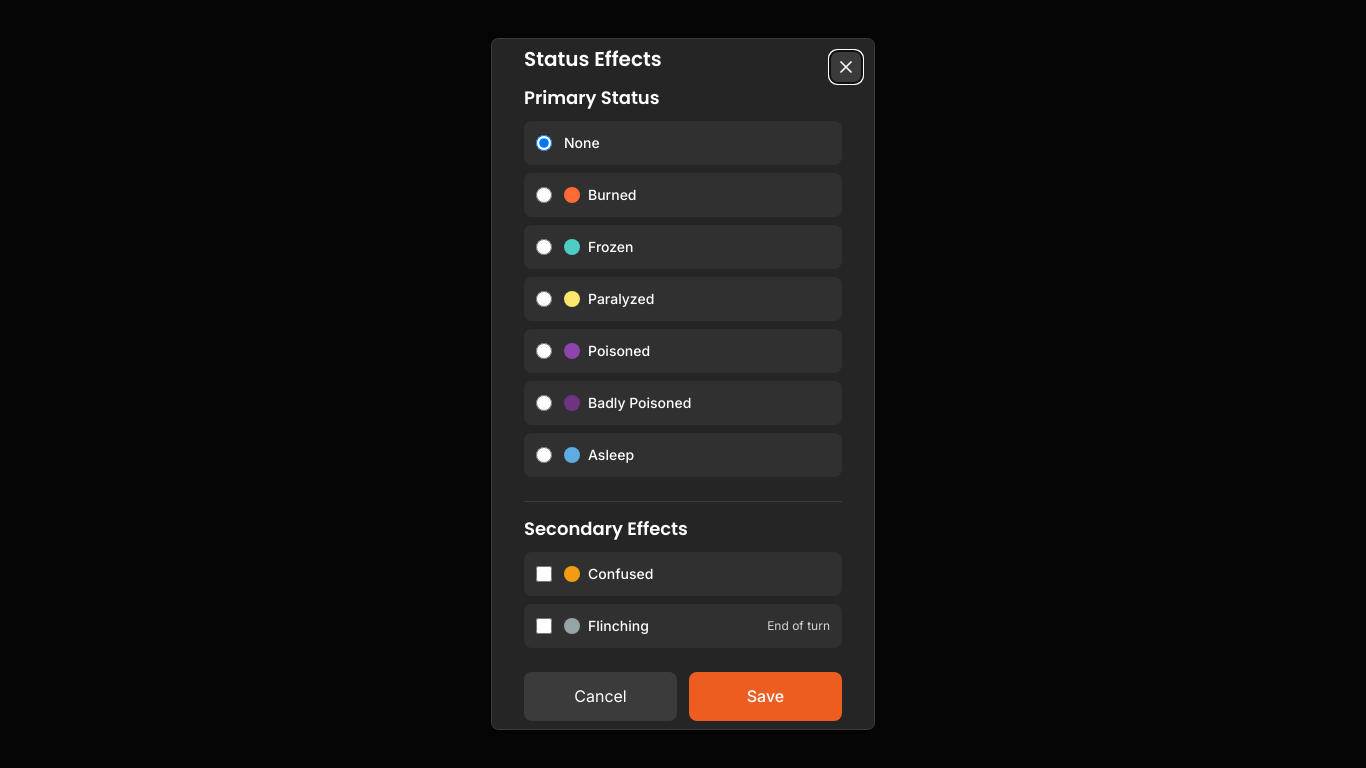
Test: StatusSelector › Duration Handling › shows duration input for asleep status
Click the radio button showing "asleep" at (544, 455), box [536,447,552,463]
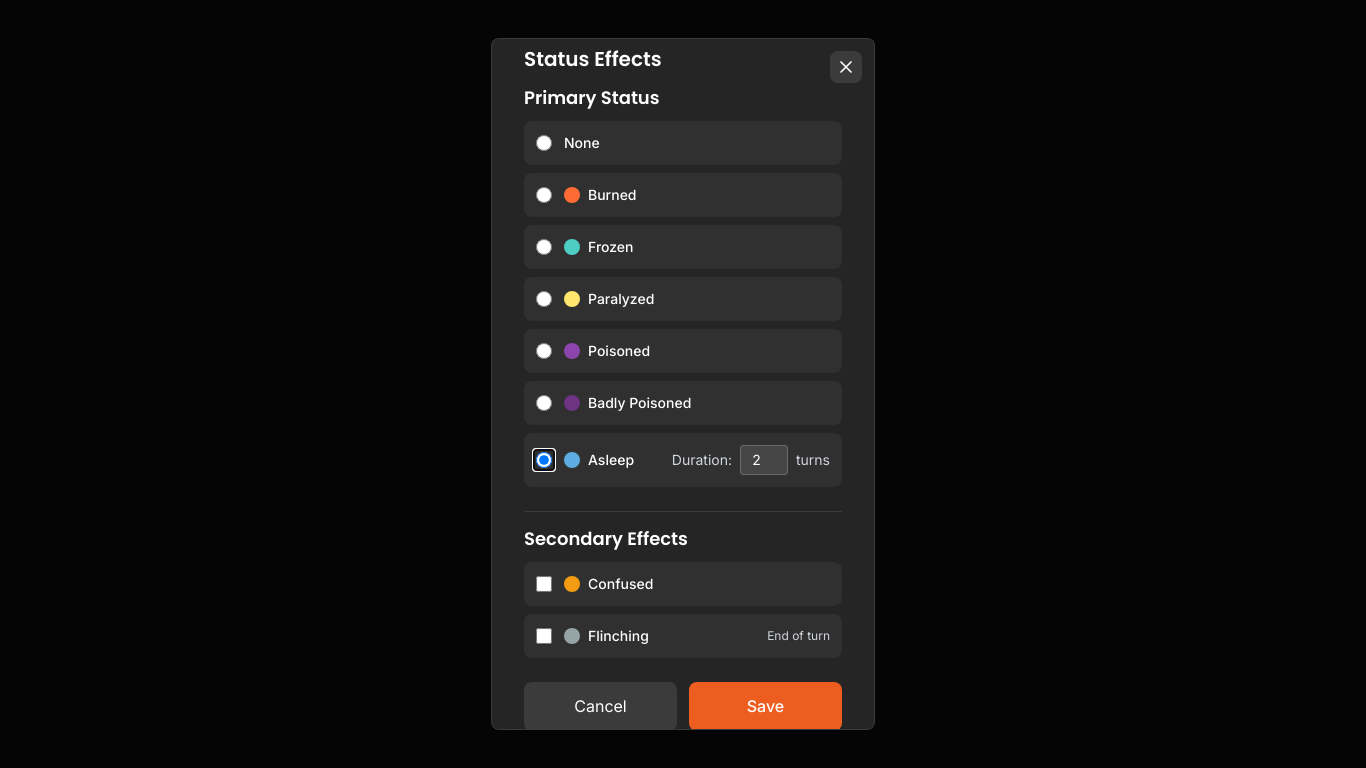
Result: the text "Duration:" is shown at [672,450,732,470]
Result: the text "turns" is shown at [796,450,830,470]
